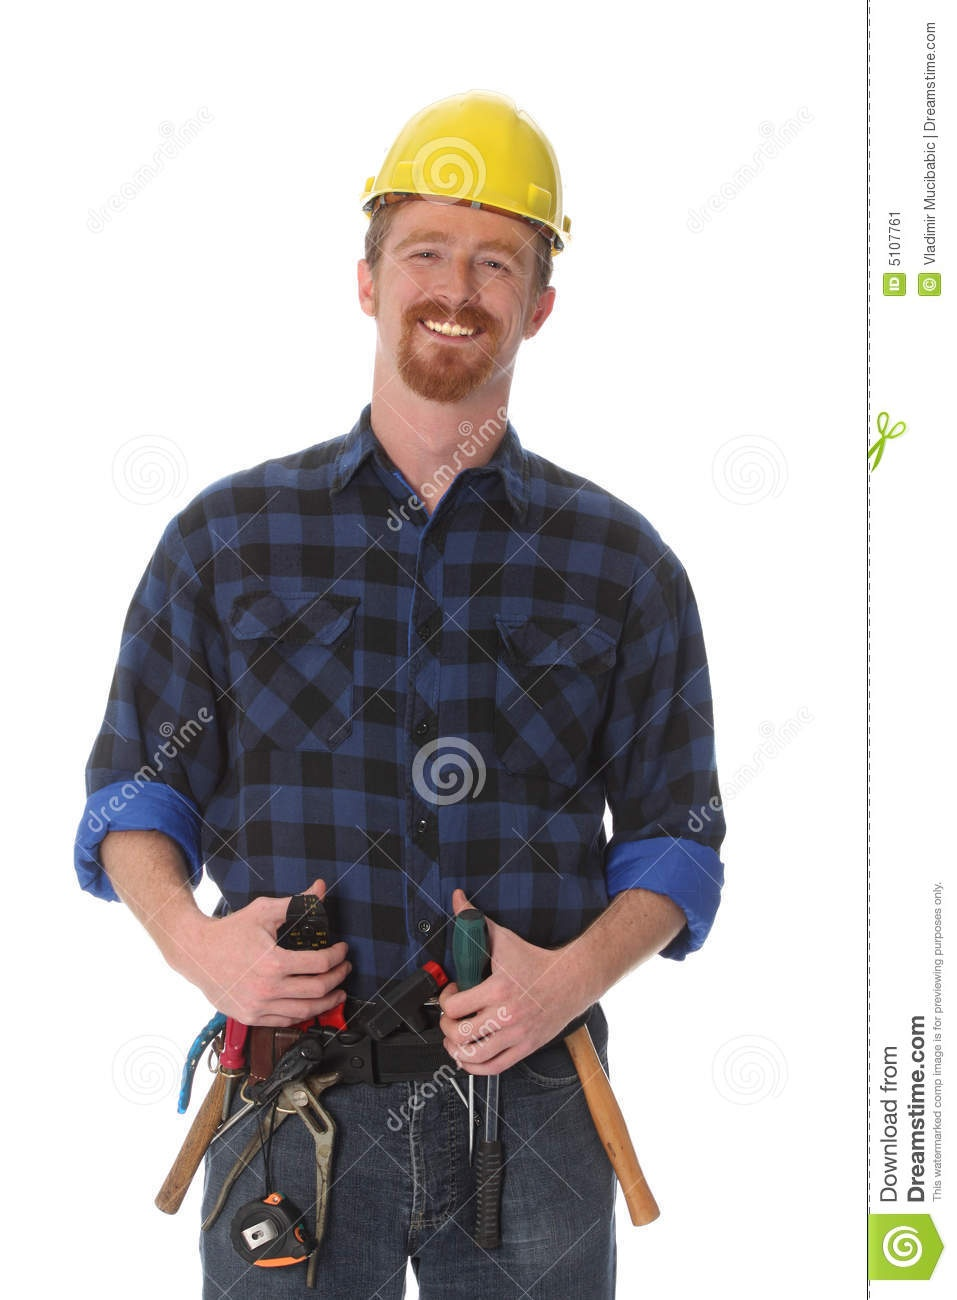yellow: (358, 83, 558, 393)
